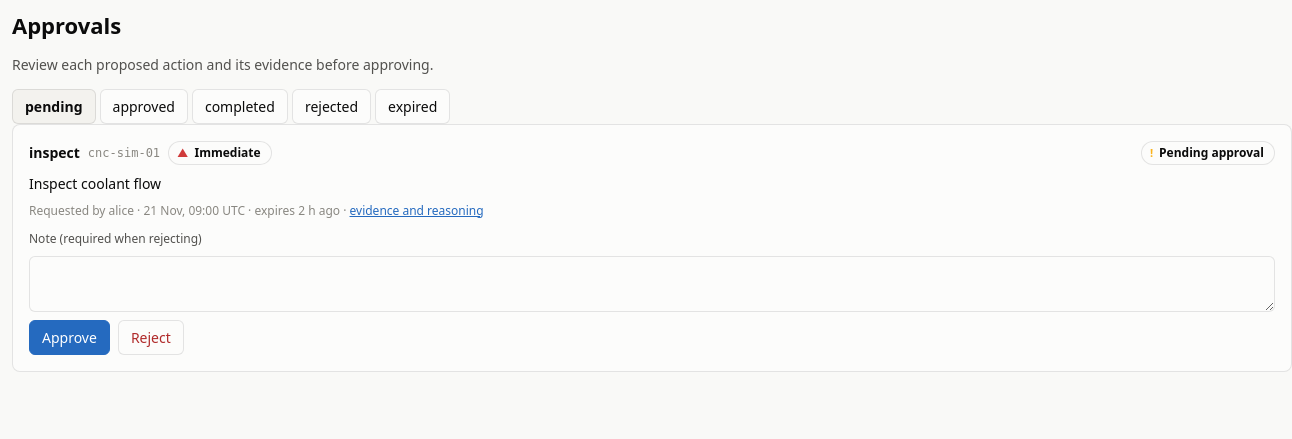
approvals › shows the API's refusal
The image size is (1292, 439).
Click the button "Reject" at (151, 337), box x1=118 y1=320 x2=184 y2=354
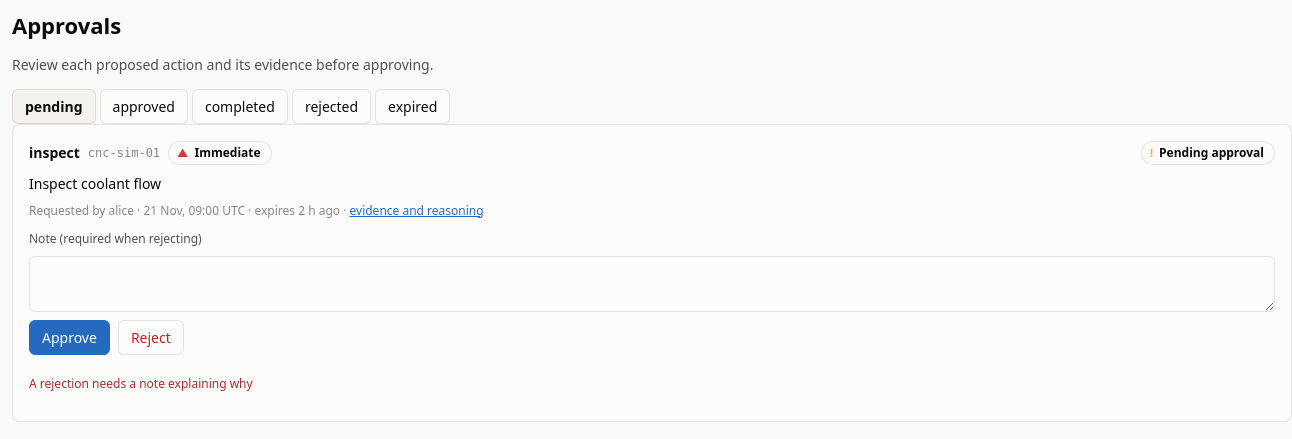
Now the message shows "needs a note", box x1=29 y1=374 x2=253 y2=392
